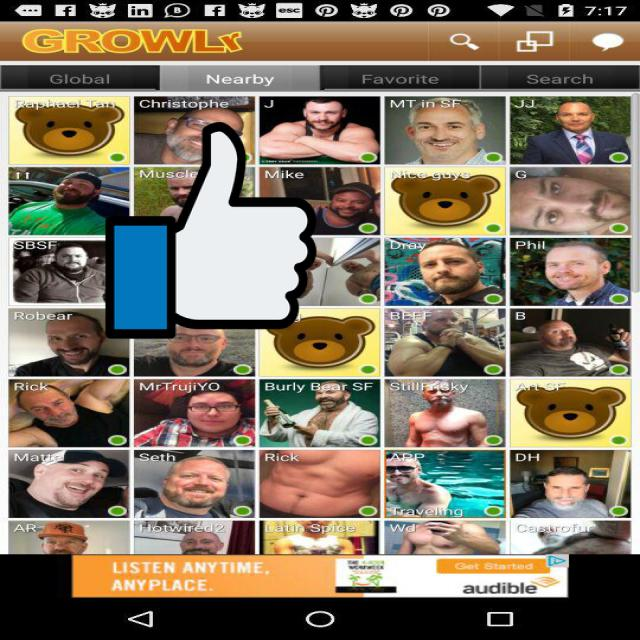privacy zuckering: (106, 118, 316, 344)
